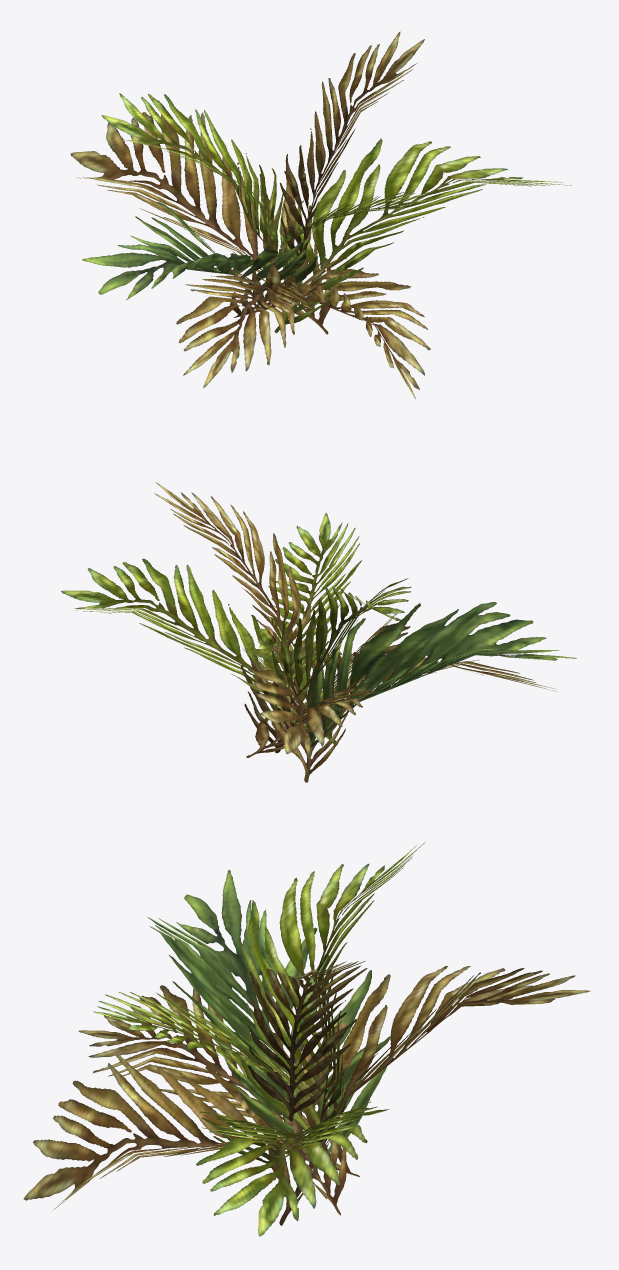
File: S_Plant_Yellow016_1.FBX
3 views of the same model, one above another, from view 1: azimuth 30°, elevation 25°; view 2: azimuth 150°, elevation 25°; view 3: azimuth 270°, elevation 25° (orthographic). The views are drawn at different scales.
Visible parts, largest first — view 1: S_Plant_Yellow016_1; view 2: S_Plant_Yellow016_1; view 3: S_Plant_Yellow016_1.
Boxes of the visible parts, box(x1,y1,x2,y2) form: S_Plant_Yellow016_1: box(70, 31, 571, 398); S_Plant_Yellow016_1: box(61, 482, 576, 782); S_Plant_Yellow016_1: box(23, 842, 590, 1236).
Size of the model in its own units: 287 by 211 by 139.
